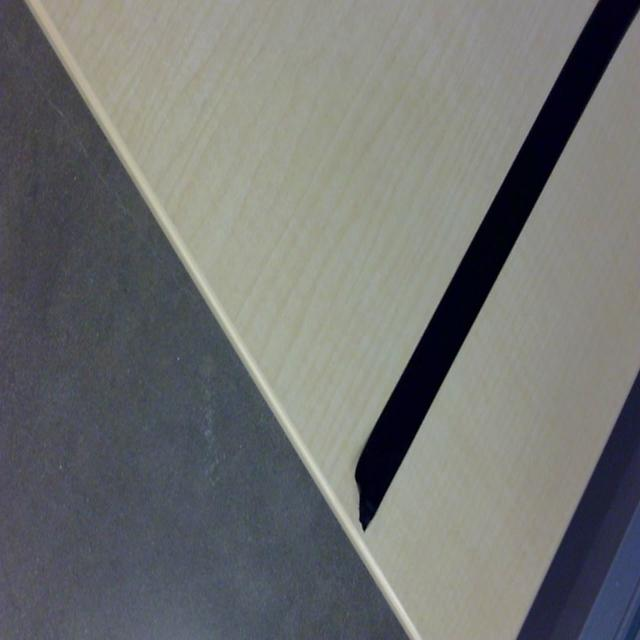tape: (356, 0, 640, 536)
